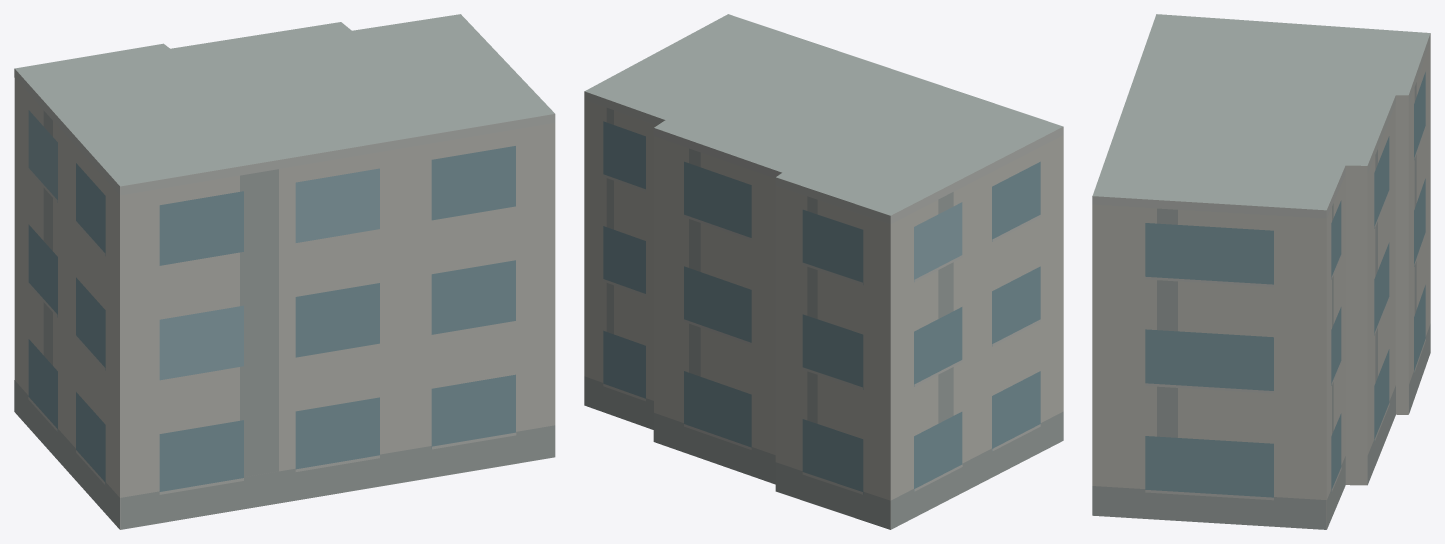
File: residential-172f1a30-dc16-47c6-8f87-f1bcc65455c0.glb
3 renders of one model, left to right at view 1: azimuth 30°, elevation 25°; view 2: azimuth 150°, elevation 25°; view 3: azimuth 270°, elevation 25°, orthographic. The views are drawn at different scales.
Parts seen in each view (by area): view 1: residential-172f1a30-dc16-47c6-8f87-f1bcc65455c0.tmp; view 2: residential-172f1a30-dc16-47c6-8f87-f1bcc65455c0.tmp; view 3: residential-172f1a30-dc16-47c6-8f87-f1bcc65455c0.tmp.
Part boxes in pixels (<box>): residential-172f1a30-dc16-47c6-8f87-f1bcc65455c0.tmp: <box>14,14,555,529</box>; residential-172f1a30-dc16-47c6-8f87-f1bcc65455c0.tmp: <box>584,14,1063,529</box>; residential-172f1a30-dc16-47c6-8f87-f1bcc65455c0.tmp: <box>1092,14,1430,529</box>.
Size of the model in its own units: 12.06 by 9.15 by 8.78.
